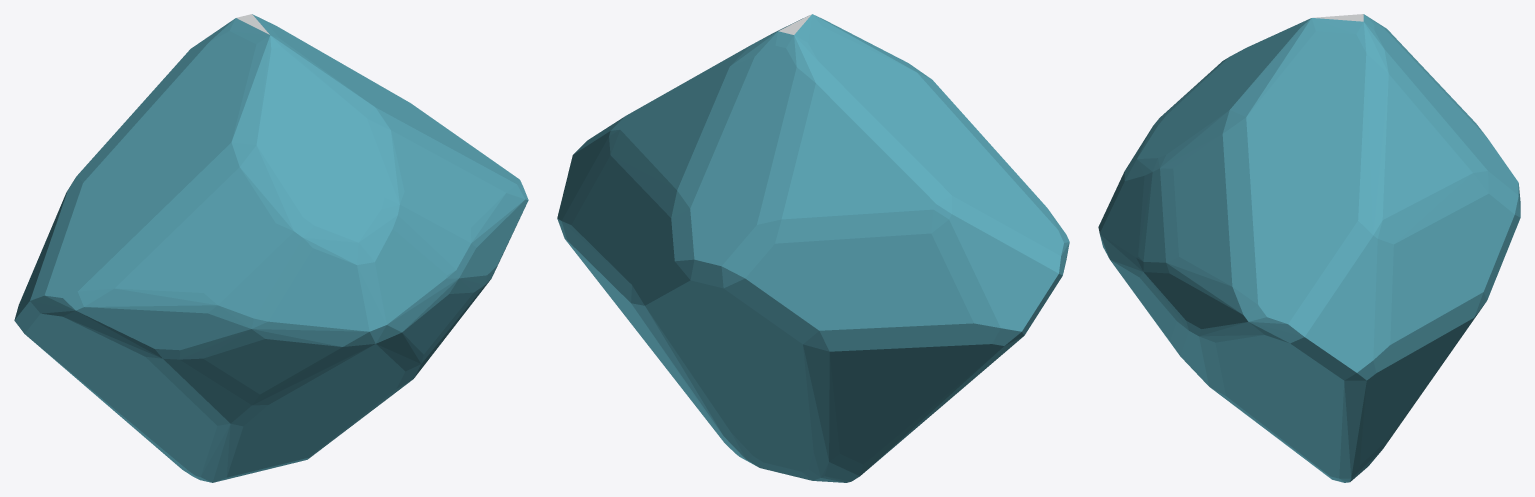
File: rough-diamond-fecf28.fbx
3 renders of one model, left to right at view 1: azimuth 30°, elevation 25°; view 2: azimuth 150°, elevation 25°; view 3: azimuth 270°, elevation 25°, orthographic.
Parts seen in each view (by area): view 1: diamond_gem; view 2: diamond_gem; view 3: diamond_gem.
Part boxes in pixels (<box>): diamond_gem: <box>14,14,528,482</box>; diamond_gem: <box>557,14,1069,482</box>; diamond_gem: <box>1098,14,1520,482</box>.
Size of the model in its own units: 8.85 by 7.69 by 6.71.
